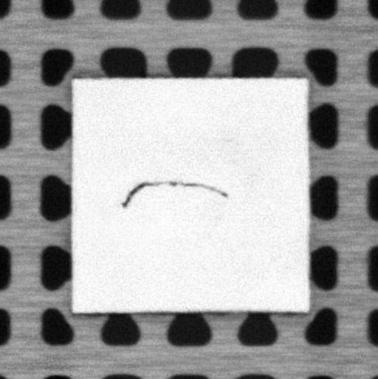DIE_INK: (119, 179, 228, 211)
